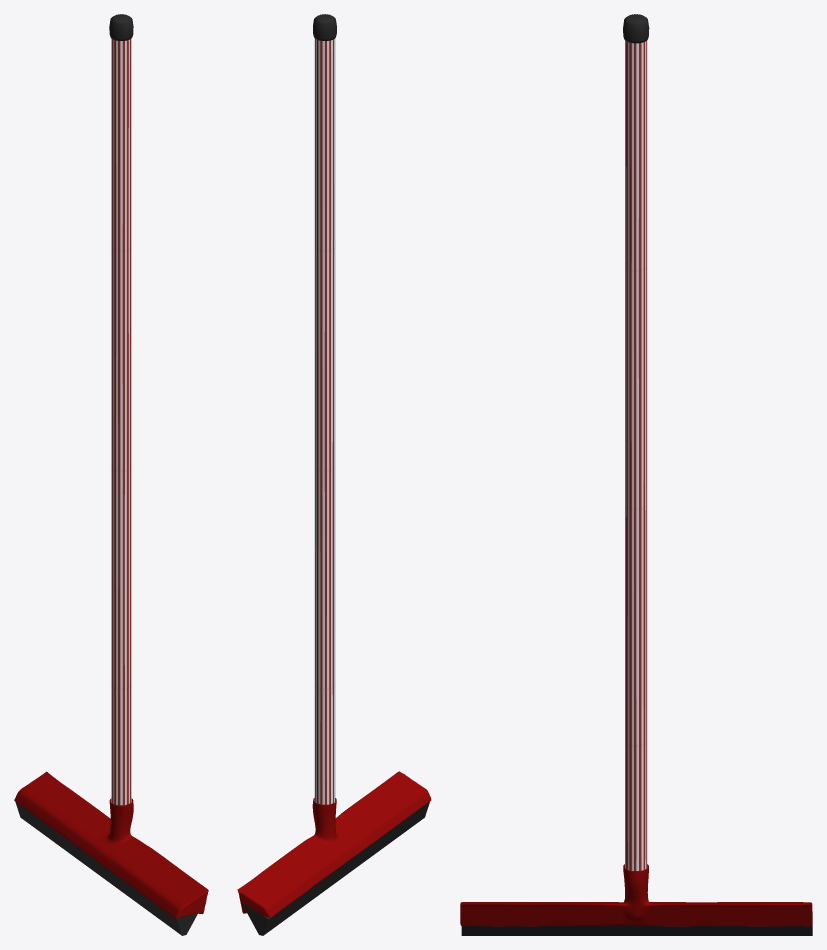
The model's file is Rodo_MESH.fbx.
The picture shows the model from 3 angles, left to right: view 1: azimuth 30°, elevation 25°; view 2: azimuth 150°, elevation 25°; view 3: azimuth 270°, elevation 25°; orthographic projection. The views are drawn at different scales.
Parts seen in each view (by area): view 1: Pau, Base, Borracha, Cabecinha; view 2: Pau, Base, Borracha, Cabecinha; view 3: Pau, Base, Borracha.
Boxes of the visible parts, left/top/right/bottom form: Pau: left=111, top=38, right=131, bottom=805; Base: left=14, top=771, right=208, bottom=918; Borracha: left=15, top=802, right=197, bottom=935; Cabecinha: left=109, top=14, right=133, bottom=40; Pau: left=314, top=38, right=335, bottom=804; Base: left=237, top=771, right=431, bottom=918; Borracha: left=242, top=802, right=429, bottom=935; Cabecinha: left=313, top=14, right=336, bottom=40; Pau: left=625, top=40, right=647, bottom=870; Base: left=460, top=864, right=812, bottom=926; Borracha: left=461, top=911, right=812, bottom=935.
Size of the model in its own units: 0.5157 by 11.31 by 3.9.
